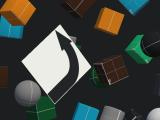Left: (22, 24, 92, 104)
